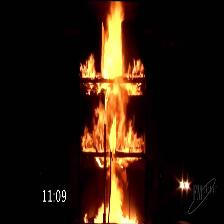fire: (76, 1, 158, 223)
